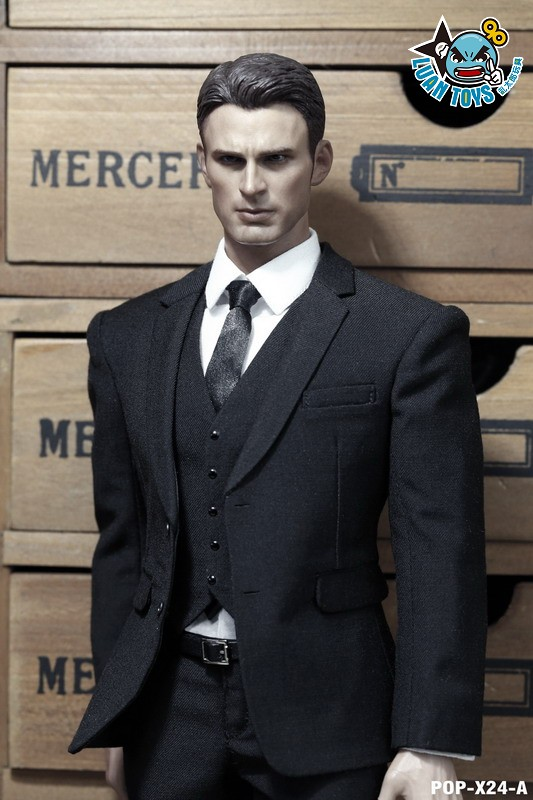F_M_suit jacket: (65, 275, 480, 751)
F_belt: (161, 635, 298, 686)
F_tie: (210, 287, 271, 415)
